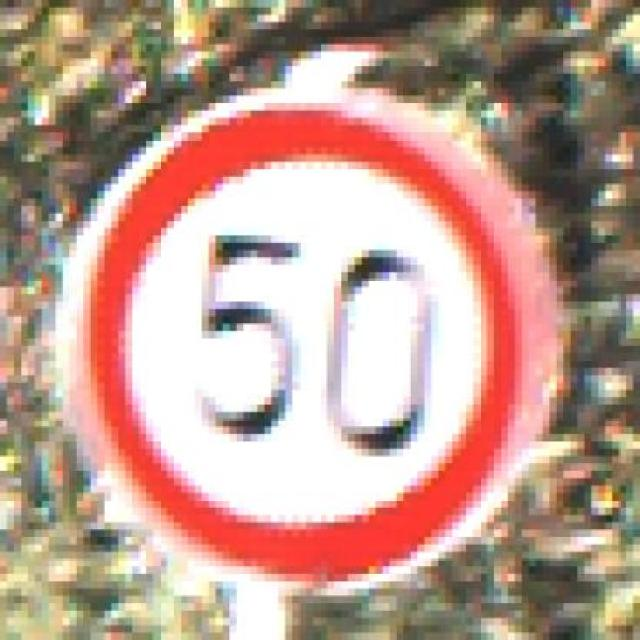50 mph speed limit: (49, 88, 556, 603)
